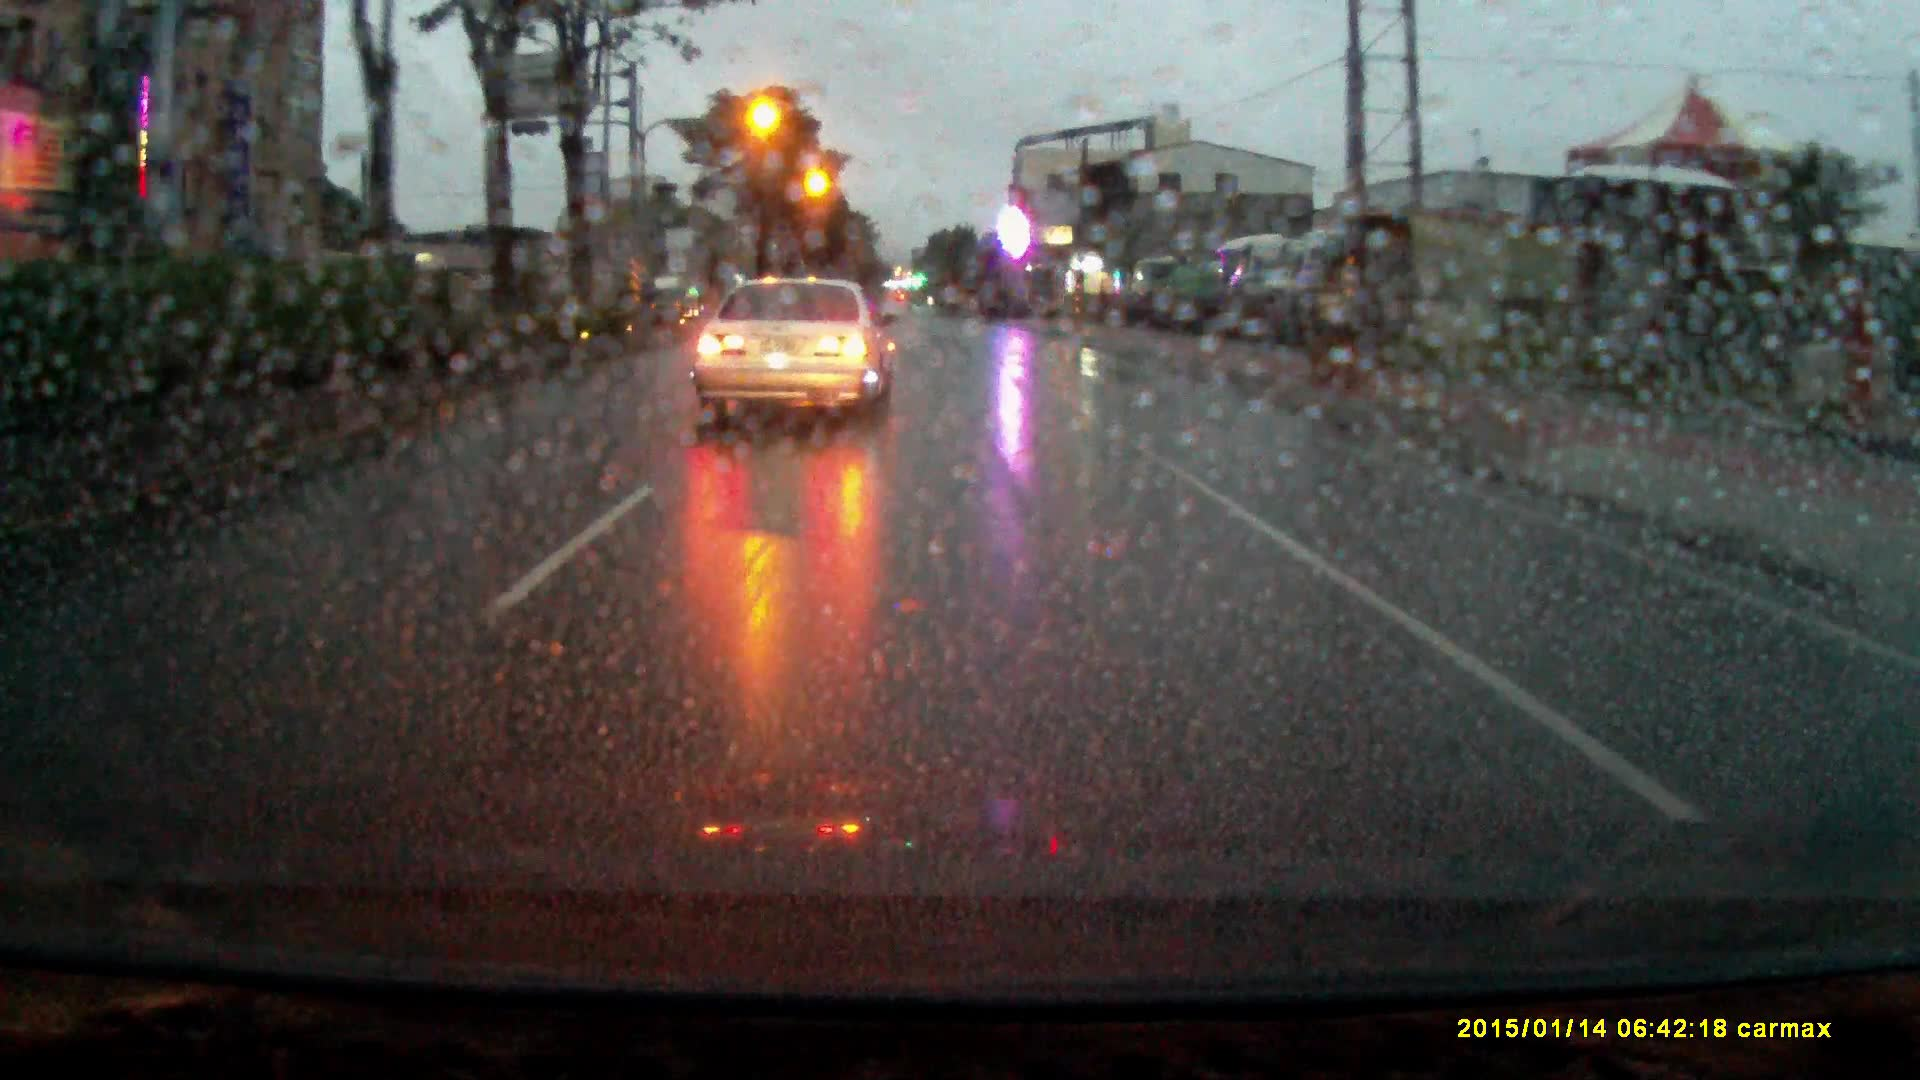vehicle: (691, 274, 901, 446), (1216, 240, 1308, 344), (1309, 232, 1391, 342), (1129, 260, 1185, 330), (1159, 266, 1218, 320), (654, 281, 702, 328)
